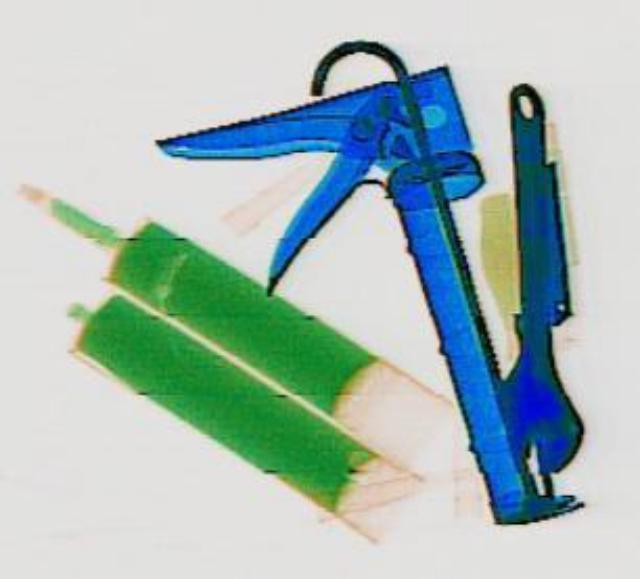Knife: (145, 61, 588, 568)
Wrench: (444, 78, 584, 473)
